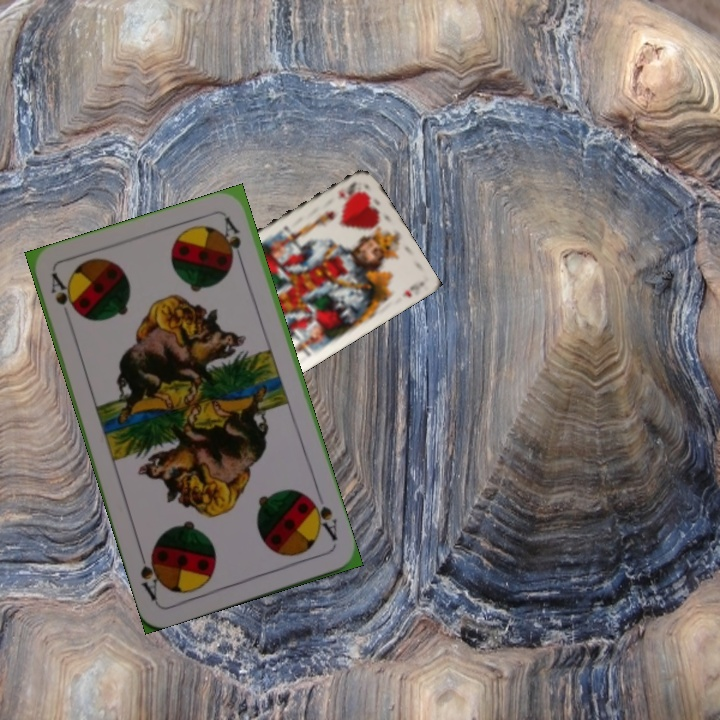HK: (334, 177, 359, 202)
SA: (304, 492, 340, 544), (46, 269, 80, 318)
